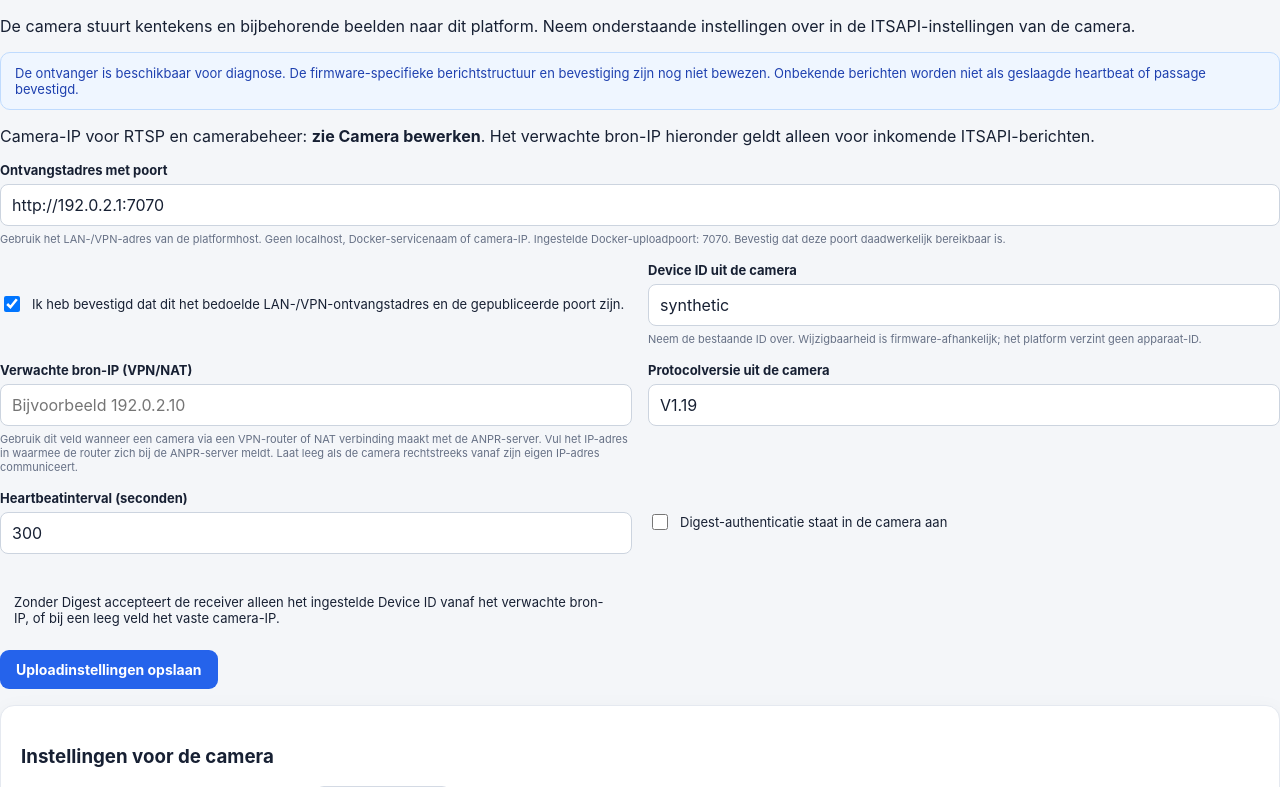
Test case: maakt mislukte herlezing na opslaan zichtbaar
This screenshot has width=1280, height=787.
Expected: the field labelled "Verwachte bron-IP (VPN/NAT)" is shown, [0,384,632,426]
Click the button "Uploadinstellingen opslaan".
click(109, 670)  # box [0,650,218,689]
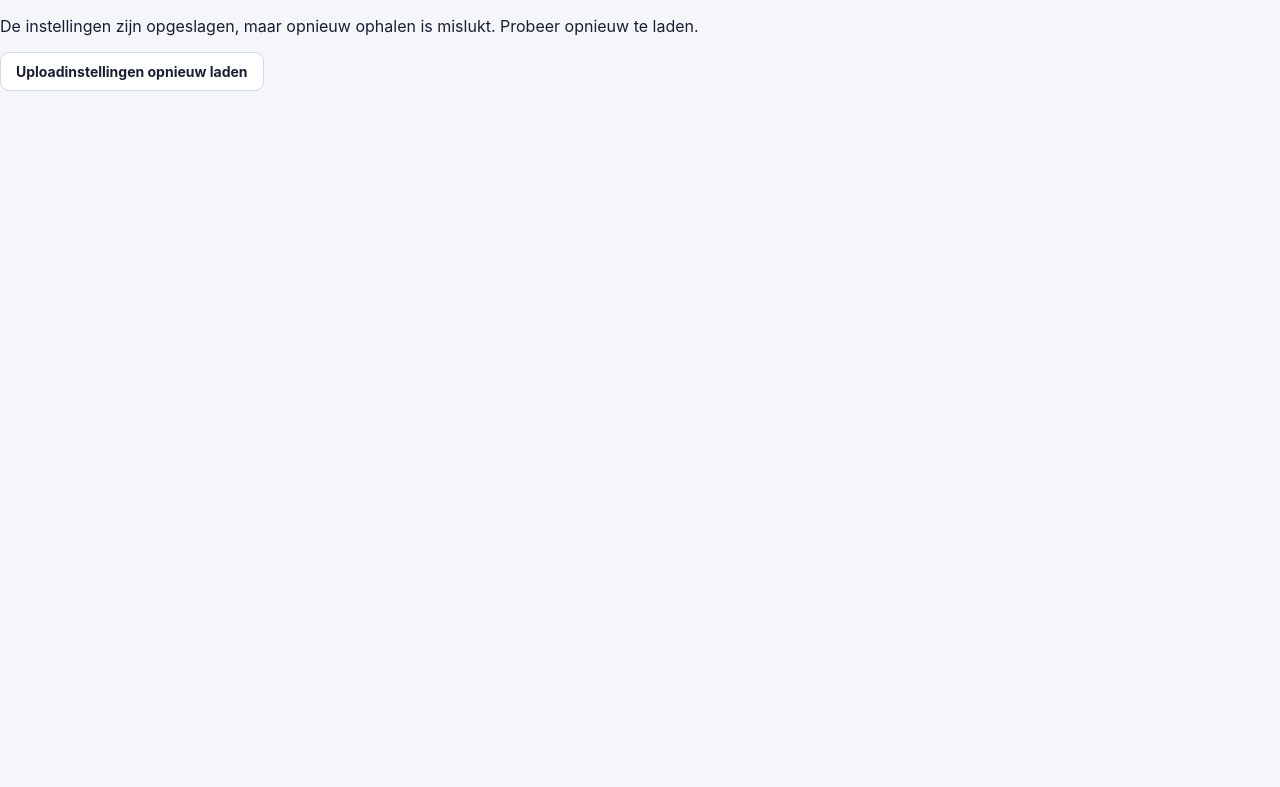
Expected: the message shows "opgeslagen, maar opnieuw ophalen is mislukt", [0,16,699,36]
